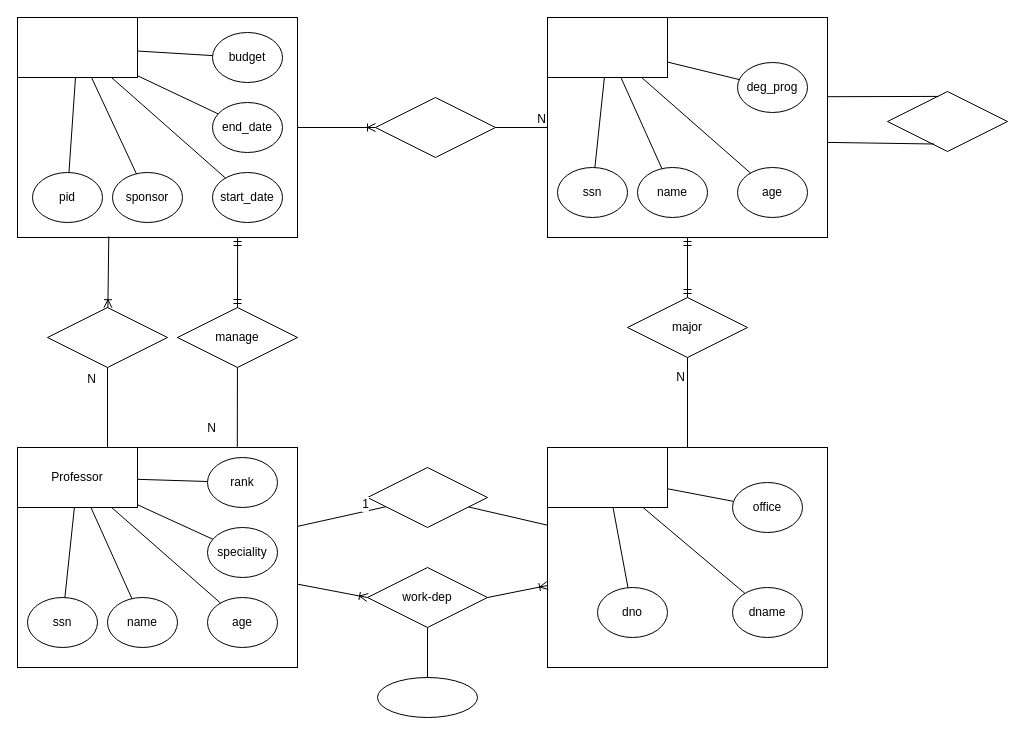
Some shapes in this 1025 by 735 pixel diagram are drawn without their labels. Here are the shapes that lost their labels. From the top down, the centre of each, then its label:
the point at 77,47: Project
the point at 607,47: Graduate
the point at 435,127: work-prog
the point at 947,121: advisor
the point at 107,337: work-in
the point at 427,497: run
the point at 607,477: Department
the point at 427,697: pct_time
